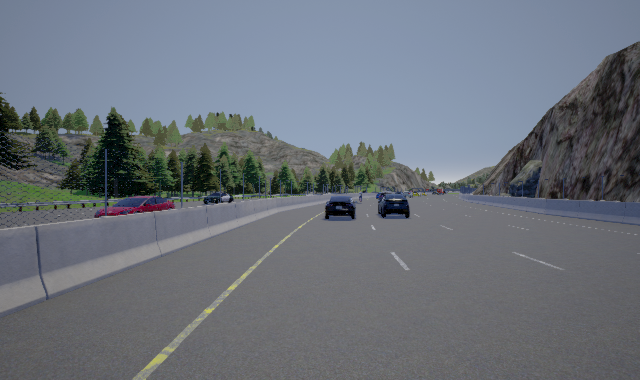vehicle: (107, 196, 175, 216), (376, 190, 421, 218), (325, 196, 358, 219), (202, 190, 236, 204)
